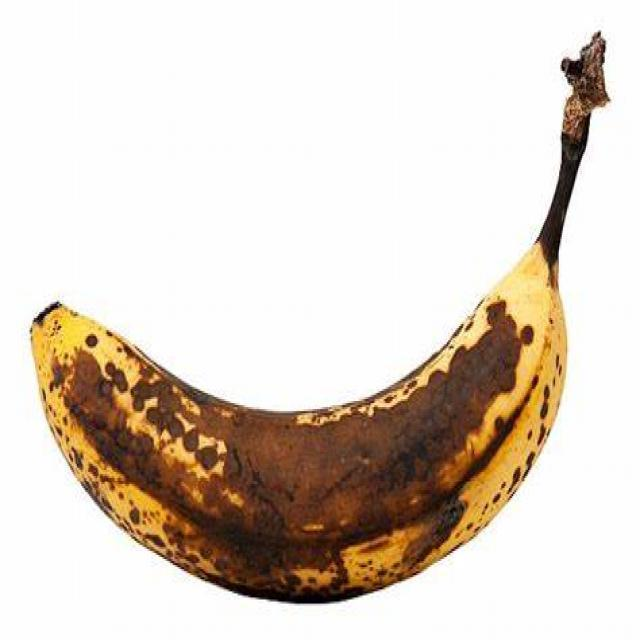Banana: (30, 38, 620, 601)
